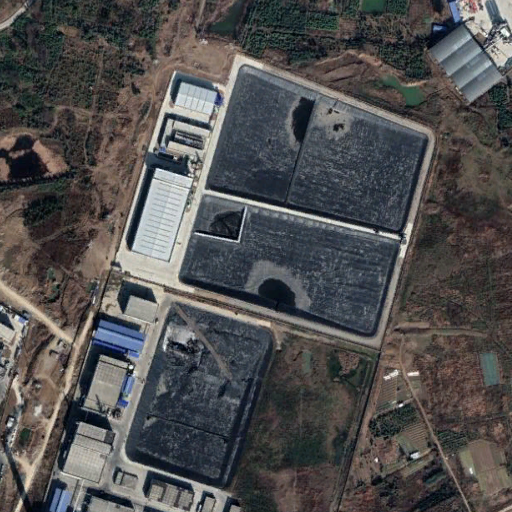lf: (176, 61, 429, 340)
